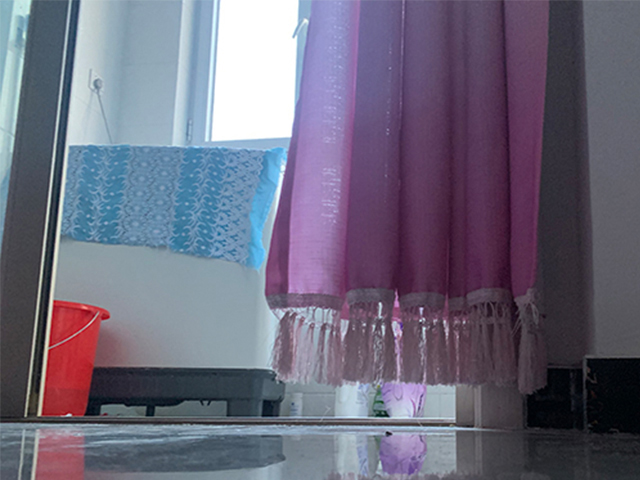curtain: (264, 1, 550, 395)
